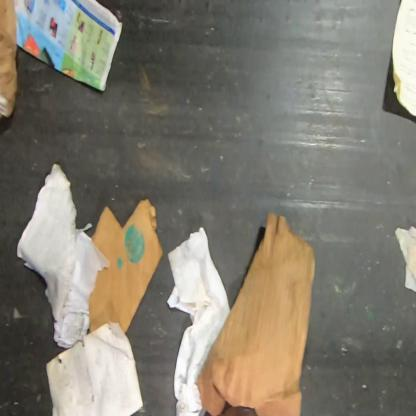cardboard: (193, 209, 317, 415), (88, 197, 165, 334), (0, 0, 20, 120)
